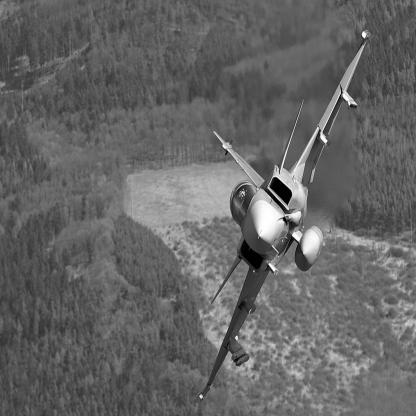JAS39: (200, 29, 372, 402)
